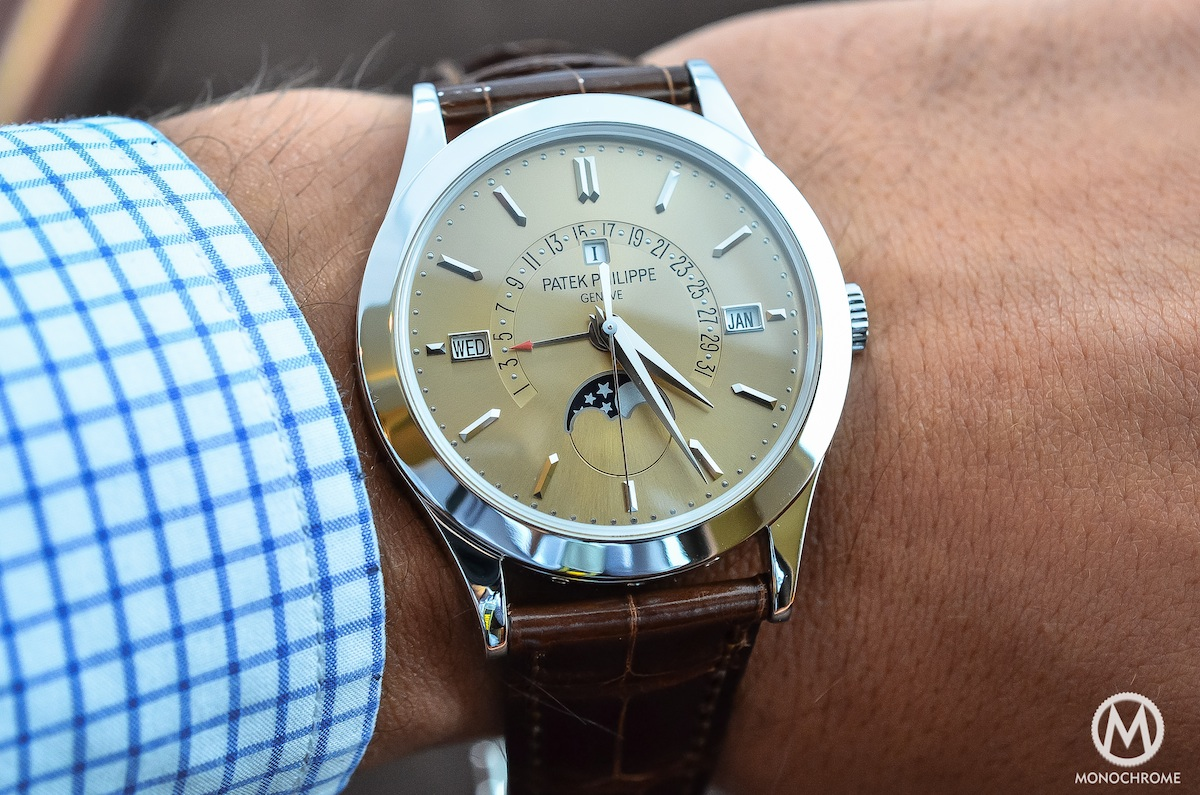clock: (407, 133, 815, 528)
